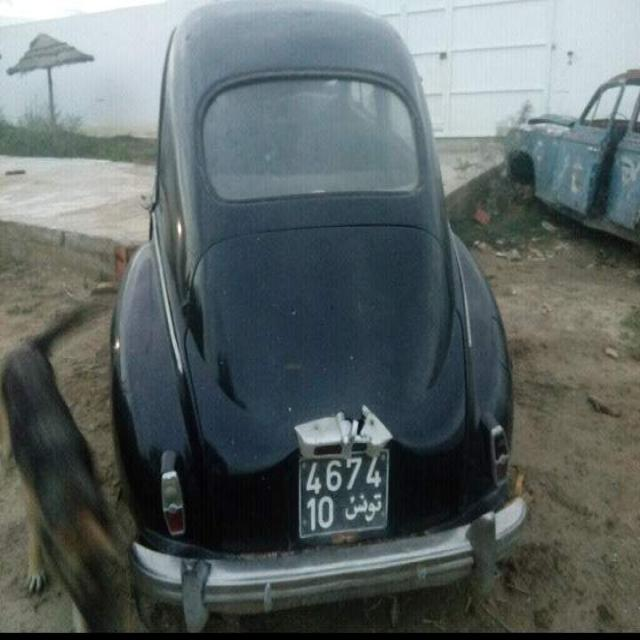LP: (295, 450, 388, 535)
